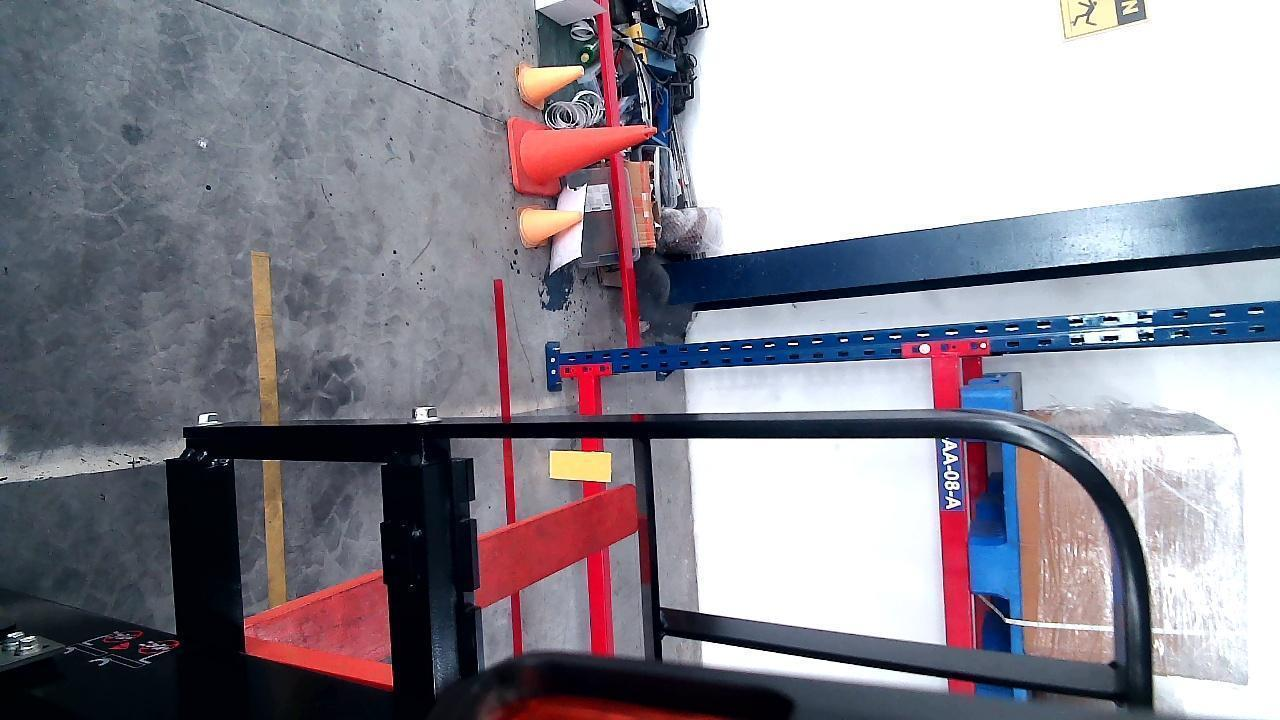red_line: (491, 277, 526, 649)
yellow_line: (252, 242, 283, 601)
